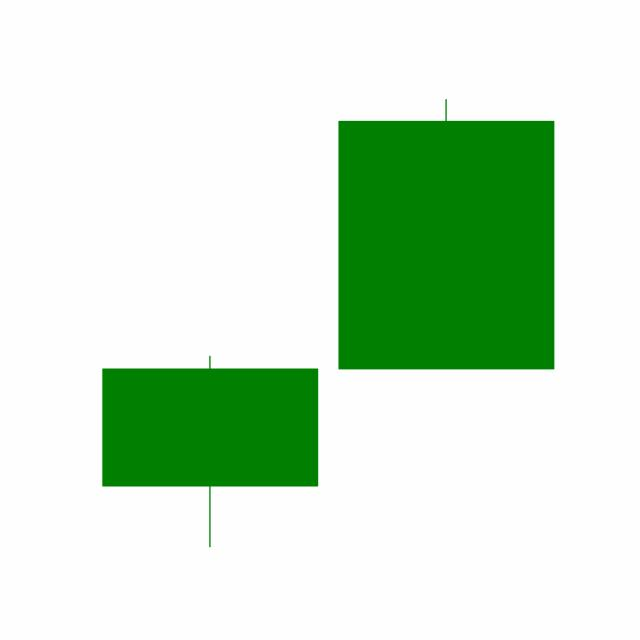Marubozu: (327, 96, 565, 372)
